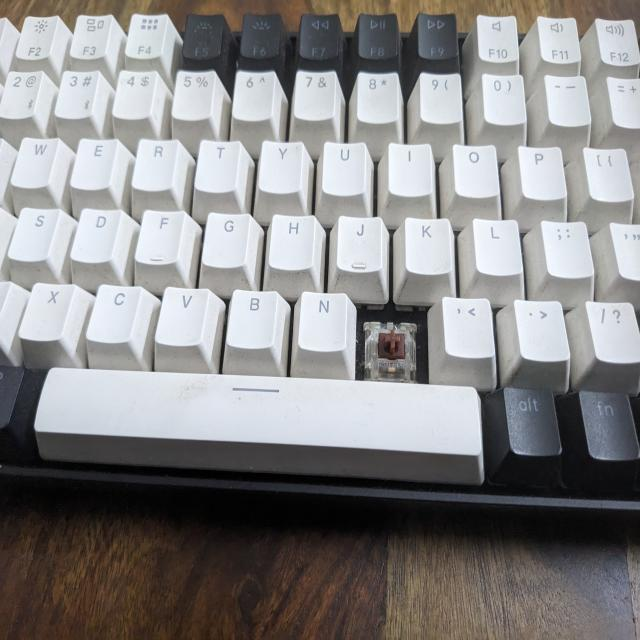C: (360, 312, 419, 380)
